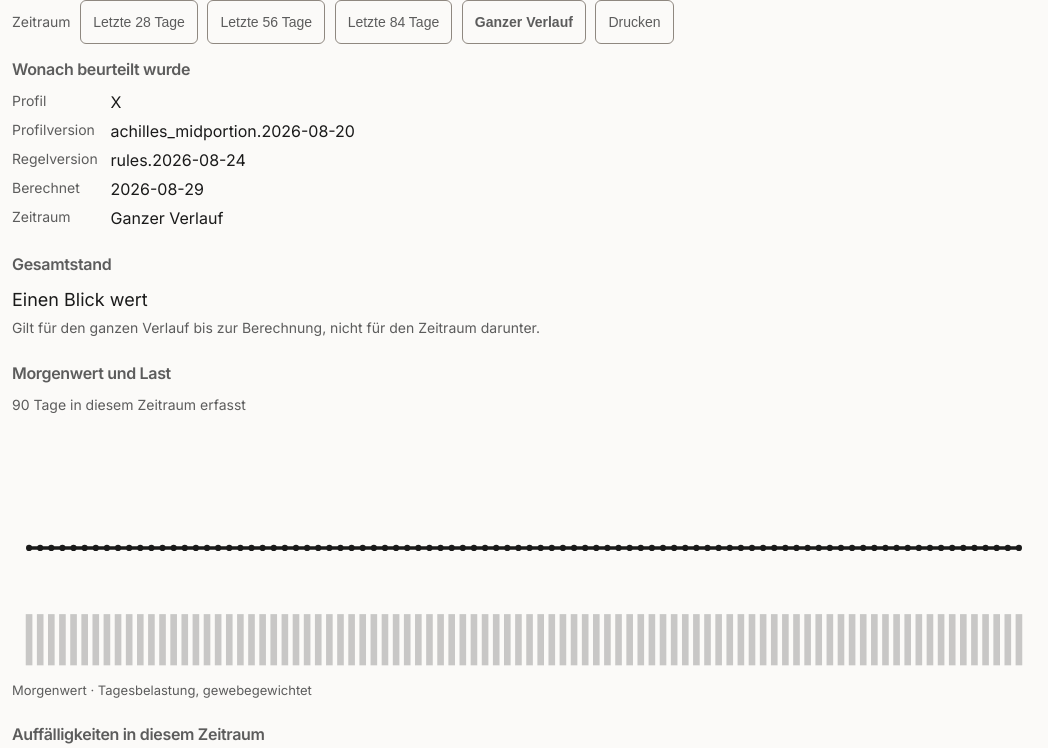
Test case: der Zeitraum engt ein, was aufgelistet wird › sagt es, wenn im Zeitraum nichts liegt
The image size is (1048, 748).
Click the button "Letzte 28 Tage" at (139, 22), box [80, 0, 198, 44]
(page scrolled)
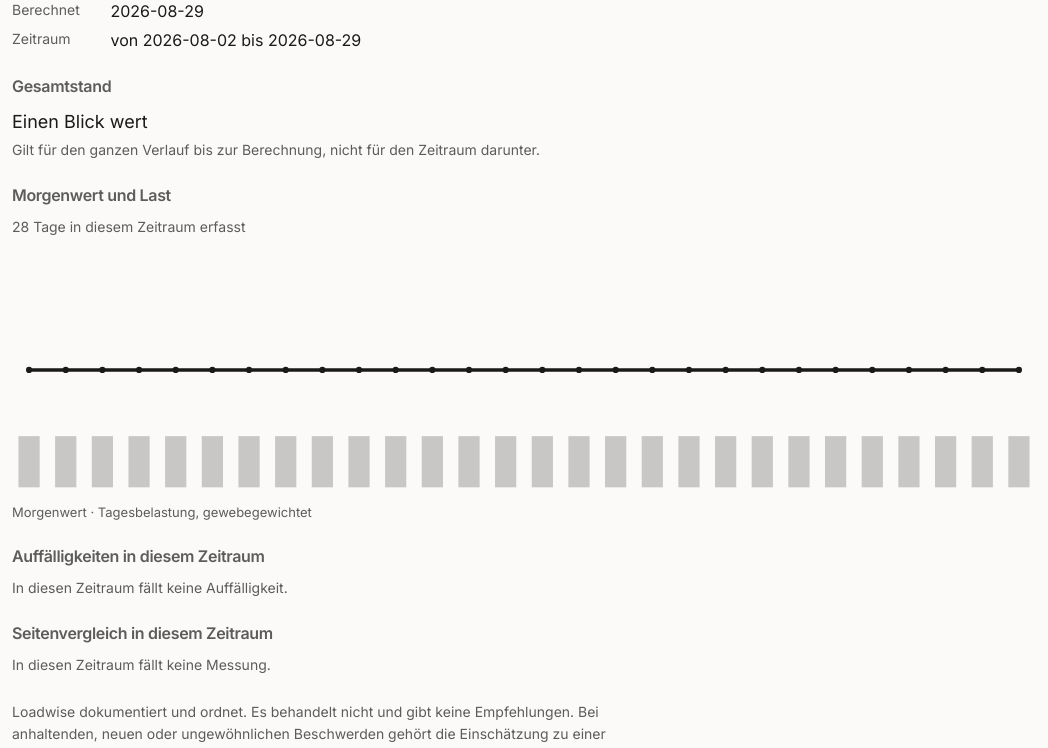
Expected: the text "In diesen Zeitraum fällt keine Messung." is shown, [12, 656, 271, 673]
Result: the text "In diesen Zeitraum fällt keine Auffälligkeit." is shown at [12, 579, 288, 596]
